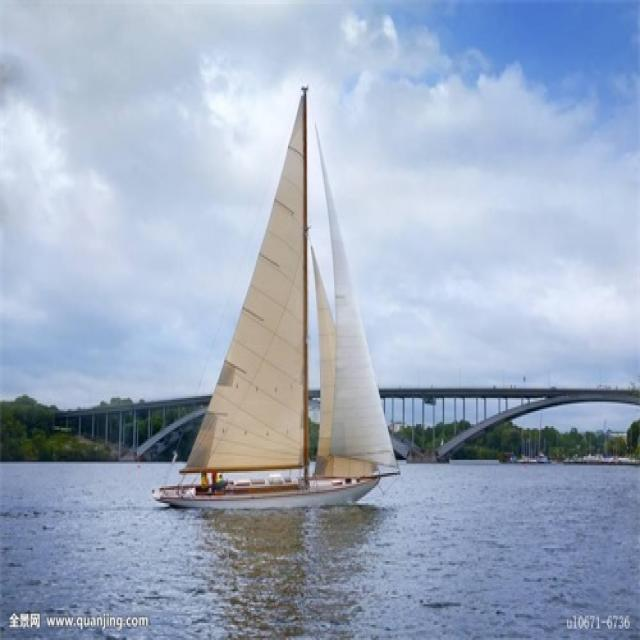Ship: (147, 88, 408, 520)
